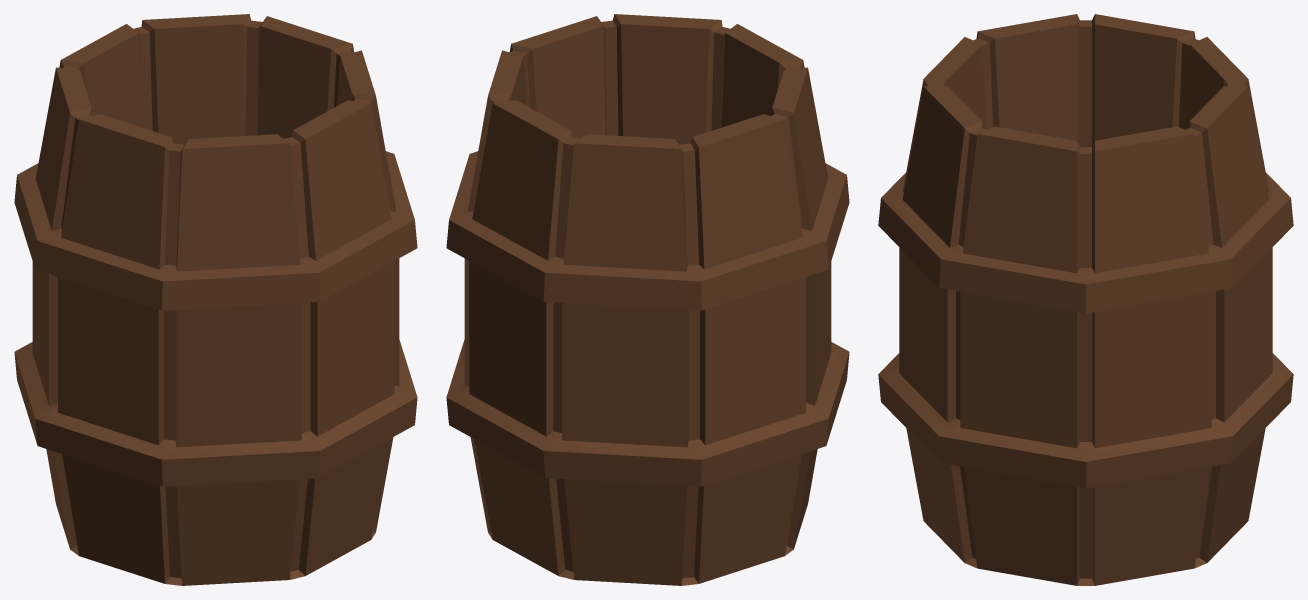
The model's file is a_z1_barrel_s.fbx.
The picture shows the model from 3 angles, left to right: view 1: azimuth 30°, elevation 25°; view 2: azimuth 150°, elevation 25°; view 3: azimuth 270°, elevation 25°; orthographic projection.
Visible parts, largest first — view 1: a_z1_barrel_s; view 2: a_z1_barrel_s; view 3: a_z1_barrel_s.
Part boxes in pixels (left/top/right/bottom): a_z1_barrel_s: left=14, top=14, right=417, bottom=585; a_z1_barrel_s: left=446, top=14, right=849, bottom=585; a_z1_barrel_s: left=878, top=14, right=1293, bottom=585.
Bounding box in the file's own units: 67.34 × 77.76 × 67.34.
